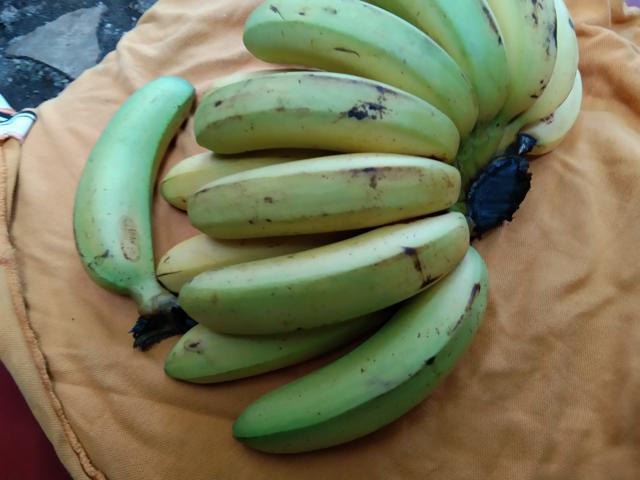ripe: (168, 195, 471, 353), (179, 138, 462, 239), (186, 61, 477, 156)
